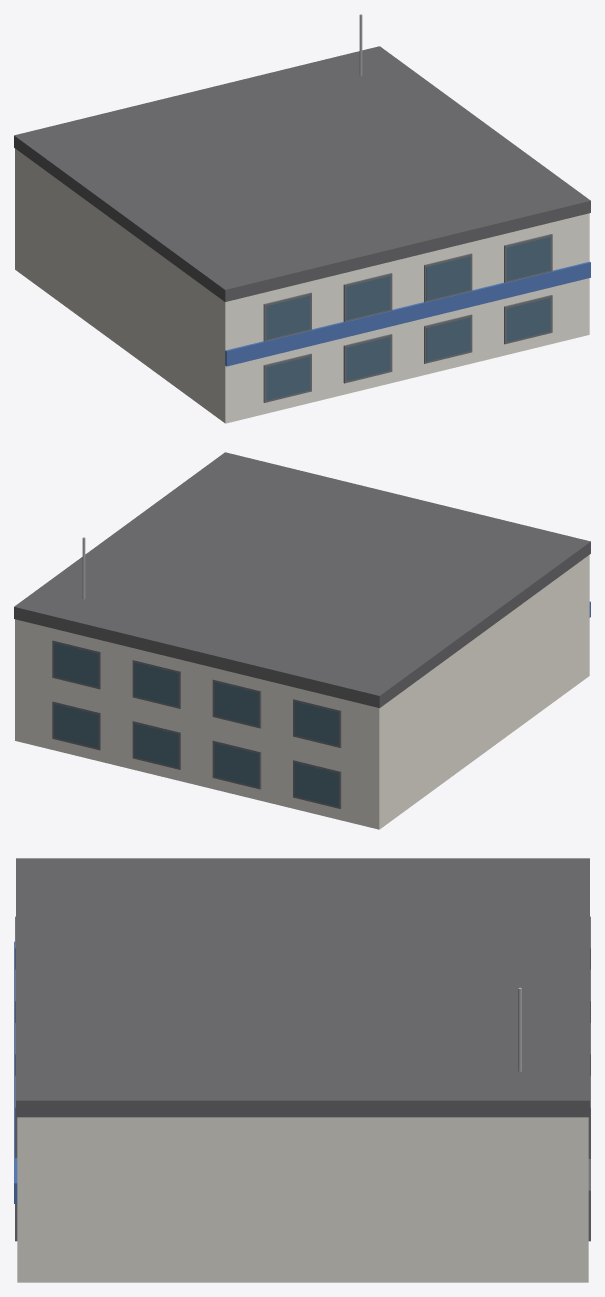
The model's file is police.glb.
3 renders of one model, top to bottom at view 1: azimuth 30°, elevation 25°; view 2: azimuth 150°, elevation 25°; view 3: azimuth 270°, elevation 25°, orthographic. The views are drawn at different scales.
Parts seen in each view (by area): view 1: Cube.001, Cube, Cube.004, Cube.002, Cube.003; view 2: Cube.001, Cube, Cube.004, Cube.003; view 3: Cube.001, Cube, Cube.003.
Boxes of the visible parts, x1,y1,x2,y2 form: Cube.001: (14, 46, 590, 301); Cube: (15, 148, 589, 423); Cube.004: (266, 237, 550, 400); Cube.002: (225, 261, 590, 366); Cube.003: (263, 234, 552, 402); Cube.001: (14, 452, 590, 708); Cube: (15, 555, 589, 829); Cube.004: (54, 643, 338, 806); Cube.003: (52, 640, 341, 808); Cube.001: (16, 858, 589, 1117); Cube: (17, 1117, 588, 1282); Cube.003: (15, 916, 590, 1241).
Size of the model in its own units: 25.1 by 12.8 by 25.24.
